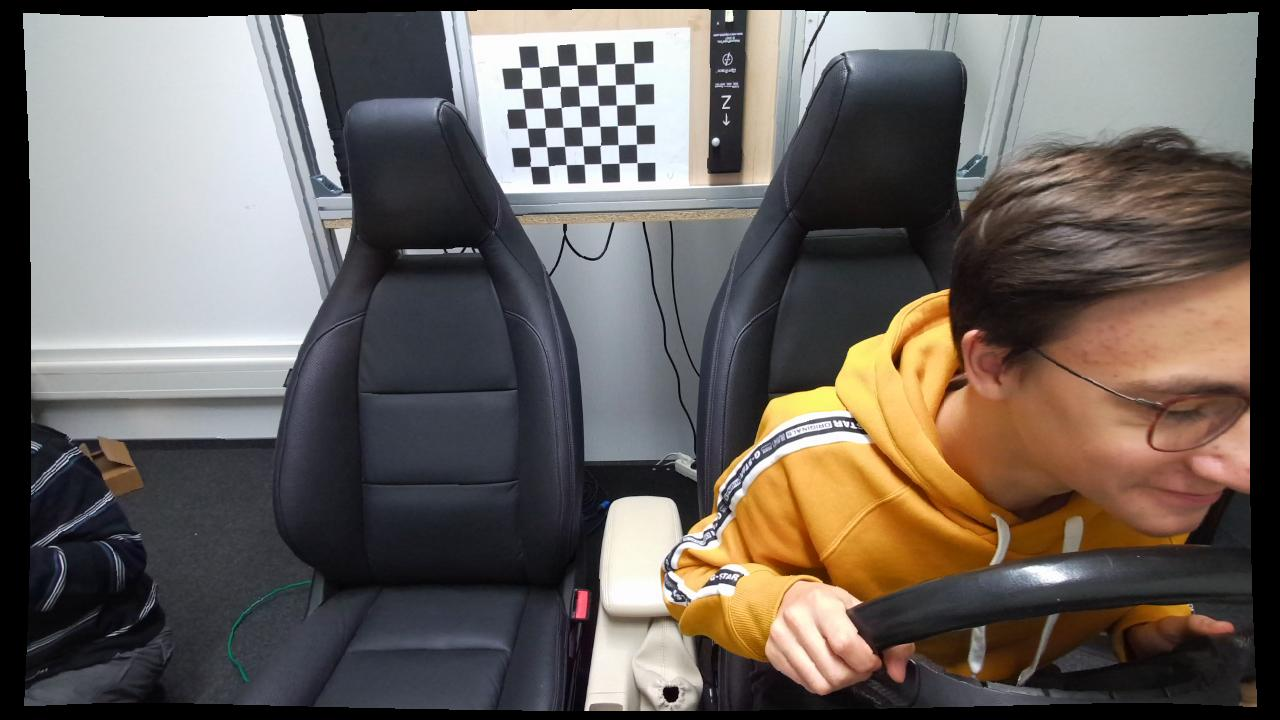Distracted: (659, 123, 1259, 714)
